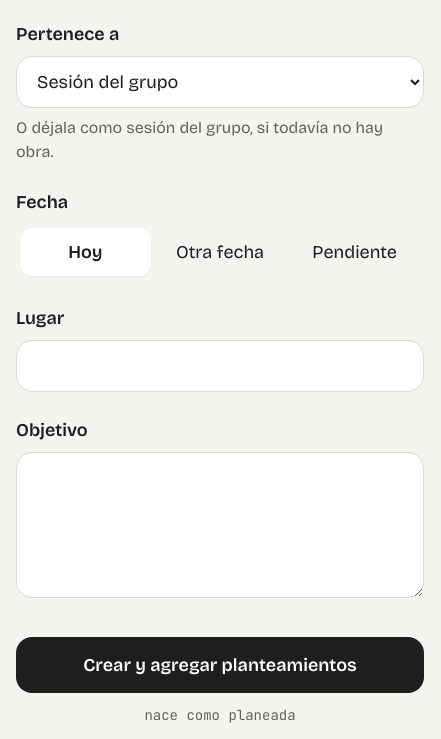
Test case: HU-07 · nueva sesión › uses today by default and sends no date when pending
The image size is (441, 739).
(page scrolled)
Click the button "Crear y agregar planteamientos".
click(220, 665)  # box x1=16 y1=637 x2=424 y2=693
(page scrolled)
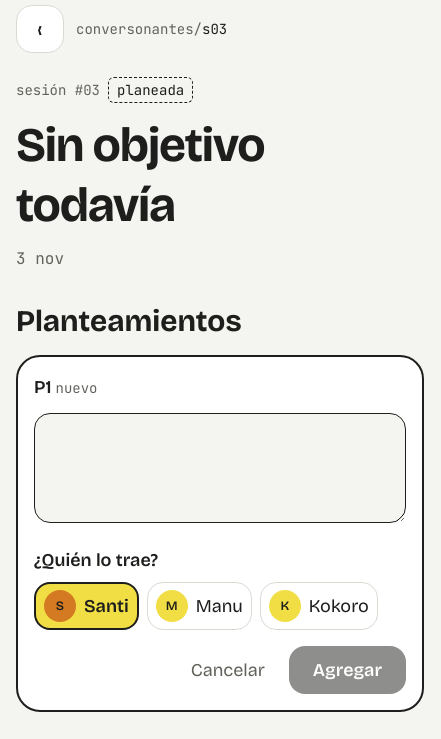
Result: the text "sesión #03" is shown at x1=16 y1=80 x2=100 y2=100
